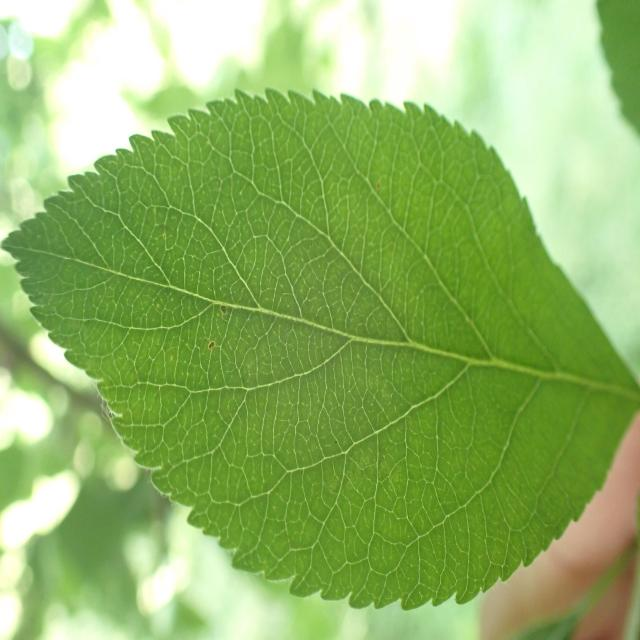healthy: (2, 85, 638, 612)
